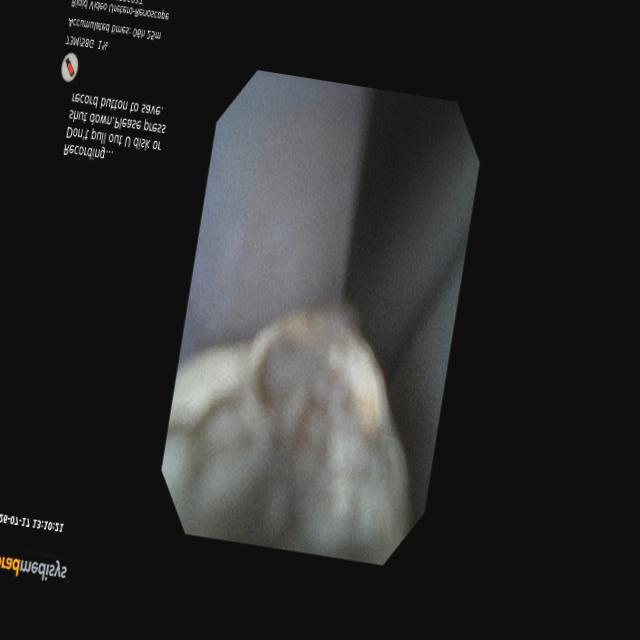stone-new: (162, 311, 411, 564)
